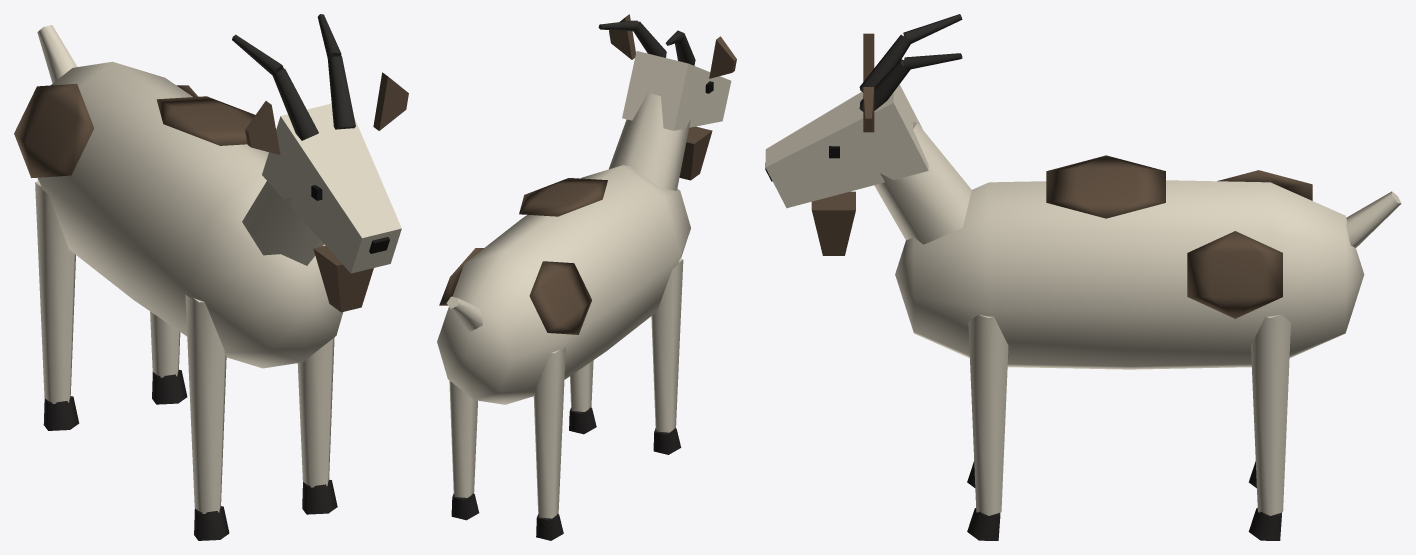
Rendered from kambing.glb.
3 renders of one model, left to right at view 1: azimuth 30°, elevation 25°; view 2: azimuth 150°, elevation 25°; view 3: azimuth 270°, elevation 25°, orthographic. The views are drawn at different scales.
Parts seen in each view (by area): view 1: body, head, leg_fr, leg_rr, leg_fl, leg_rl, tail; view 2: body, head, leg_rr, leg_fr, leg_rl, leg_fl, tail; view 3: body, head, leg_rl, leg_fl, tail.
Part boxes in pixels (box(x1,y1,x2,y2)): body: box(14, 61, 343, 368); head: box(232, 14, 408, 312); leg_fr: box(185, 295, 229, 540); leg_rr: box(35, 181, 79, 430); leg_fl: box(297, 337, 337, 514); leg_rl: box(150, 311, 187, 404); tail: box(37, 25, 77, 83); body: box(437, 93, 690, 404); head: box(598, 14, 736, 180); leg_rr: box(533, 347, 565, 540); leg_fr: box(651, 258, 683, 454); leg_rl: box(449, 381, 479, 520); leg_fl: box(569, 360, 596, 434); tail: box(446, 296, 482, 331); body: box(874, 122, 1364, 369); head: box(765, 14, 962, 255); leg_rl: box(1248, 315, 1290, 540); leg_fl: box(967, 315, 1008, 540); tail: box(1346, 191, 1401, 247).
Bounding box in the file's own units: 0.3387 × 0.9553 × 1.15.
Materials: 1 (1 with a texture image).
